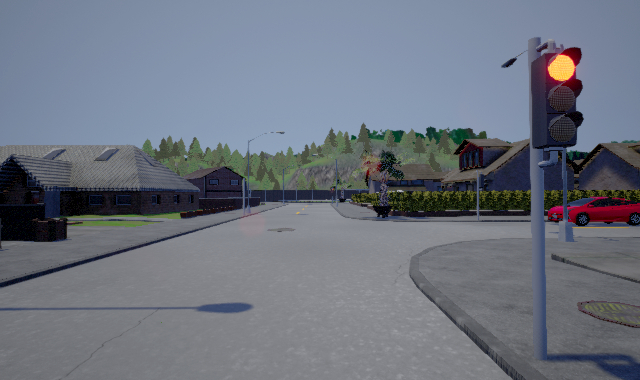traffic_light: (531, 46, 583, 149)
vehicle: (545, 197, 640, 226)
